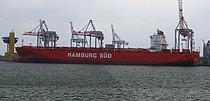Ship: (13, 43, 204, 69)
